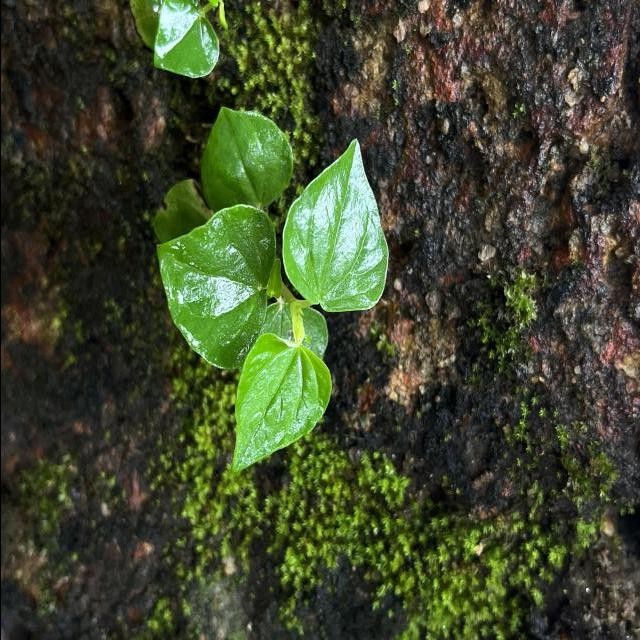Peperomia pellucida: (154, 202, 276, 372), (278, 135, 390, 314), (228, 332, 332, 478)
